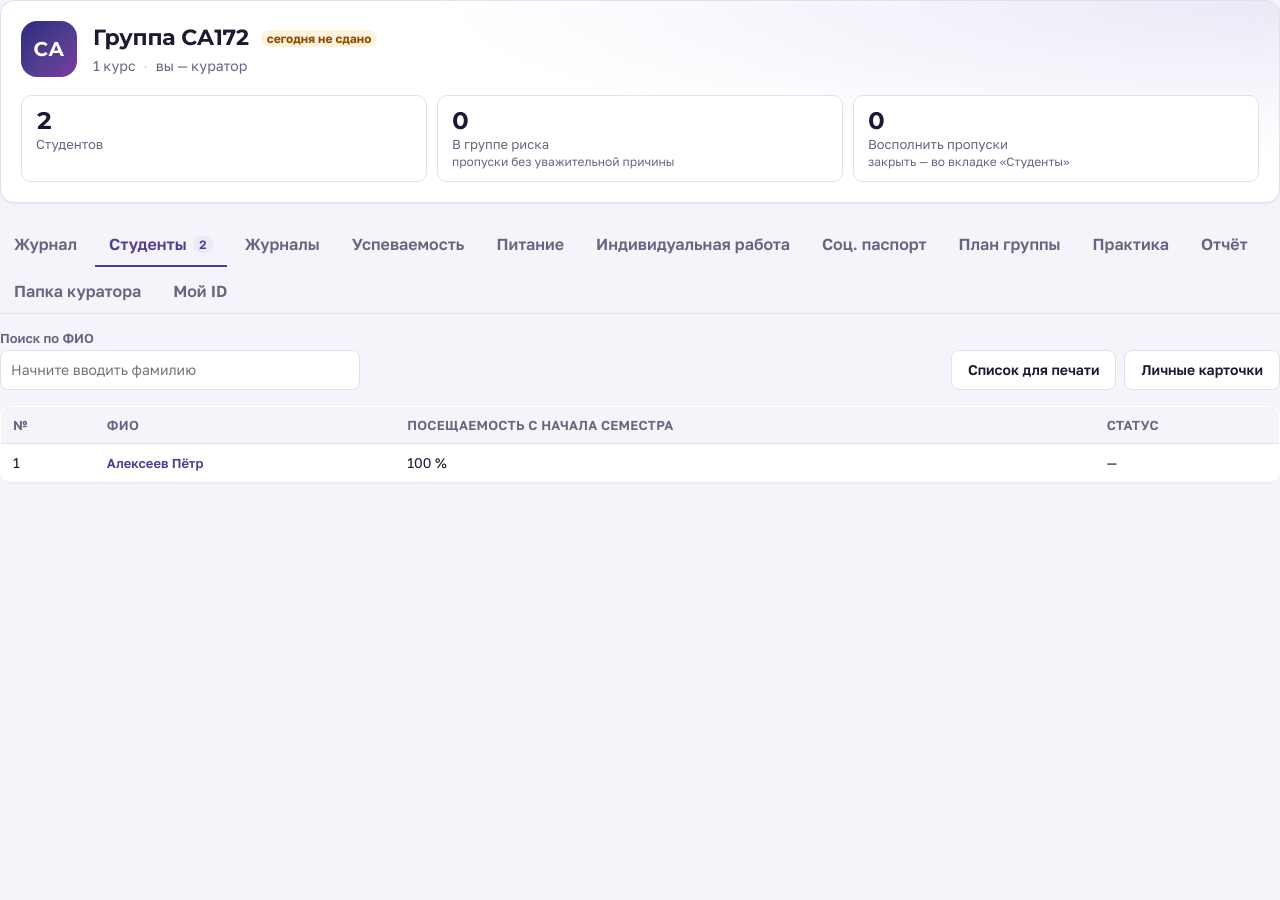
CuratorGroupPage — журнал дня › «Личные карточки» открывают окно выбора полей для карточек всей группы
Check: the link "Алексеев Пётр" is shown, box left=103, top=453, right=207, bottom=473
Click the button "Личные карточки". click: (1202, 370)
box: left=1124, top=350, right=1279, bottom=390
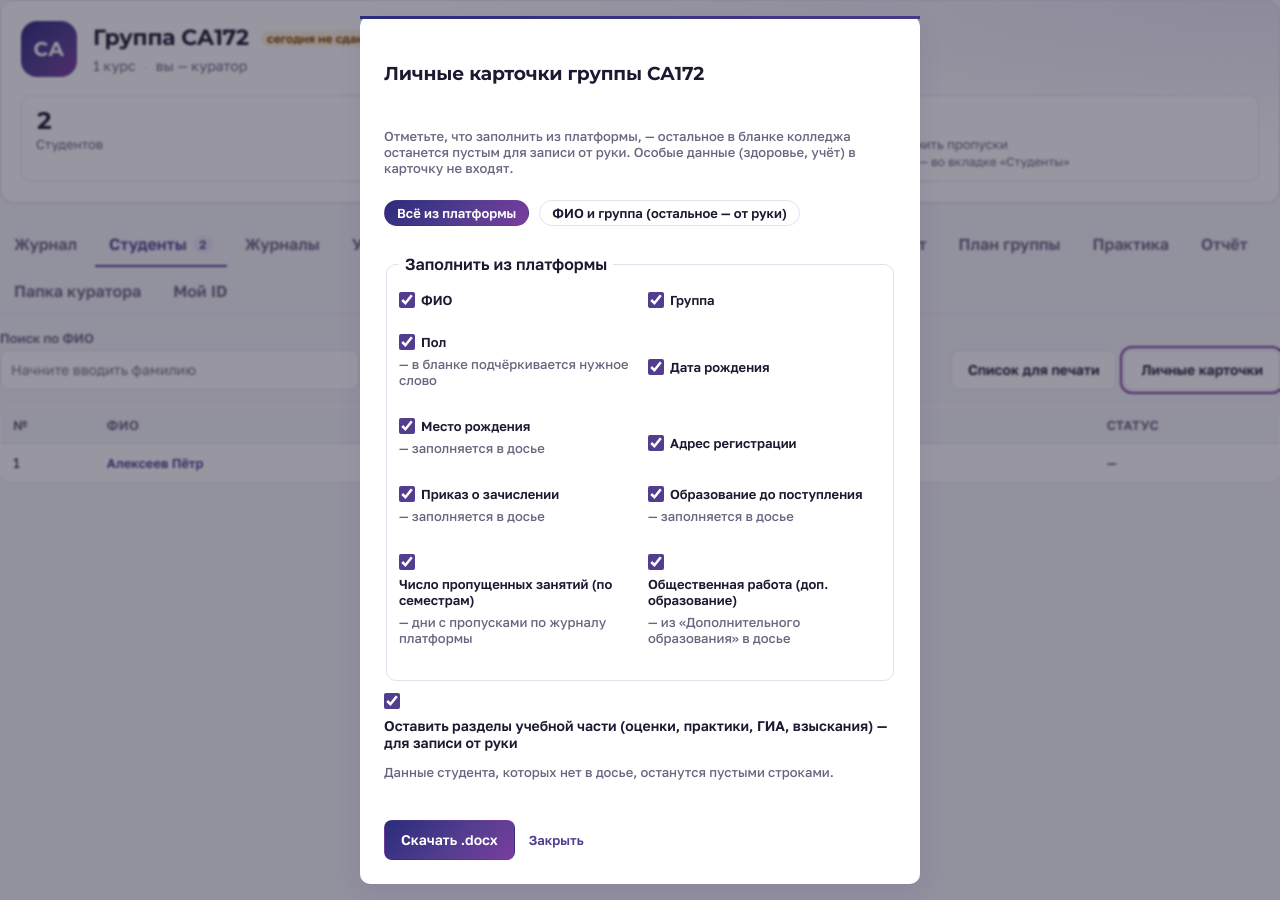
Check: the heading "Личные карточки группы СА172" is shown, box left=384, top=62, right=704, bottom=85
Check: the button "Скачать .docx" is enabled, box left=384, top=820, right=515, bottom=860
